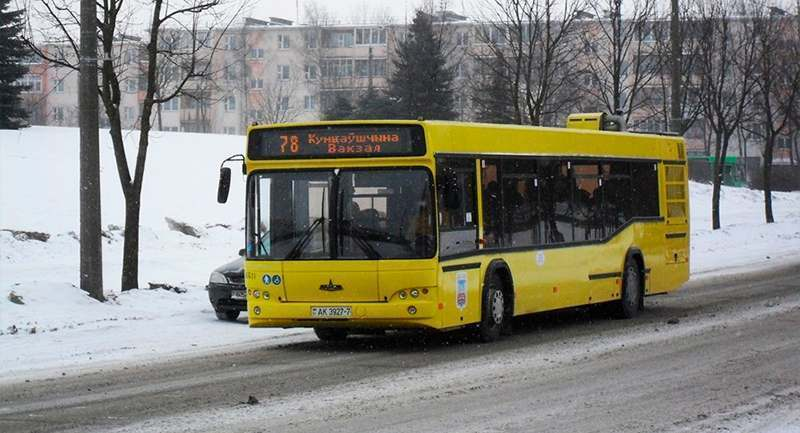bus: (241, 106, 692, 344)
